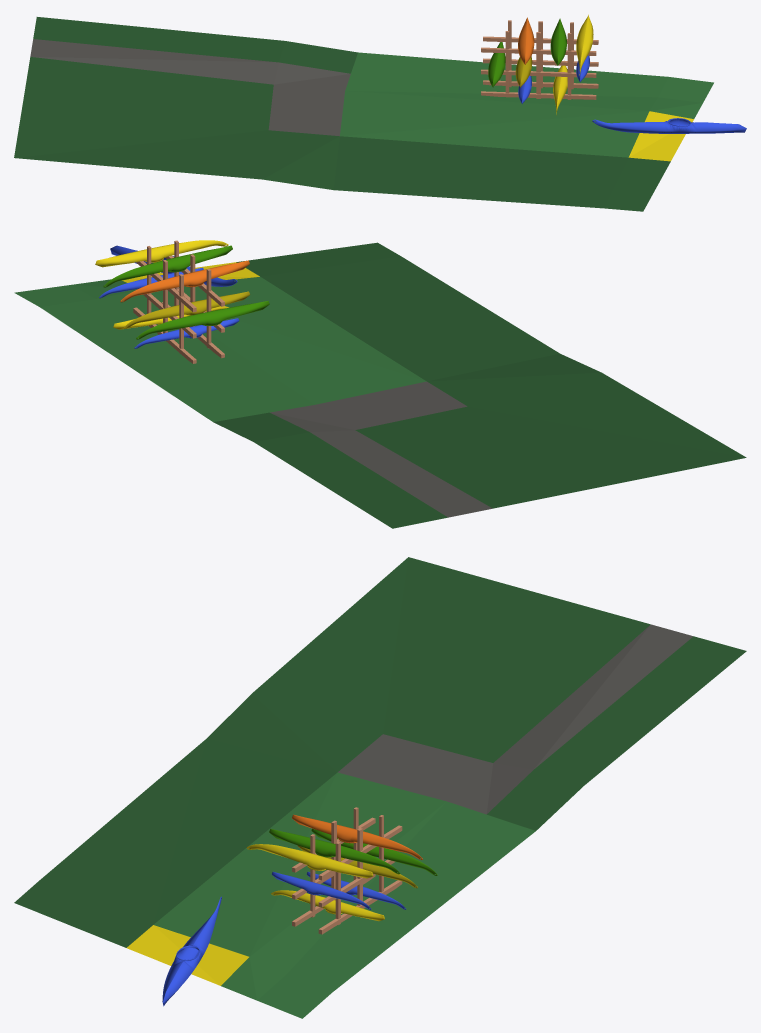
File: isolittlemagothypark.glb
3 views of the same model, one above another, from view 1: azimuth 30°, elevation 25°; view 2: azimuth 150°, elevation 25°; view 3: azimuth 270°, elevation 25° (orthographic). The views are drawn at different scales.
Parts seen in each view (by area): view 1: little_magothy_park_grass, little_magothy_kayak_rack; view 2: little_magothy_park_grass, little_magothy_kayak_rack; view 3: little_magothy_park_grass, little_magothy_kayak_rack.
Part boxes in pixels (box(x1,y1,x2,y2)): little_magothy_park_grass: box(14, 17, 713, 211); little_magothy_kayak_rack: box(481, 14, 746, 133); little_magothy_park_grass: box(14, 242, 746, 528); little_magothy_kayak_rack: box(95, 240, 269, 363); little_magothy_park_grass: box(14, 557, 746, 1018); little_magothy_kayak_rack: box(162, 807, 437, 1006).
Size of the model in its own units: 0.6592 by 0.0794 by 0.5158.
